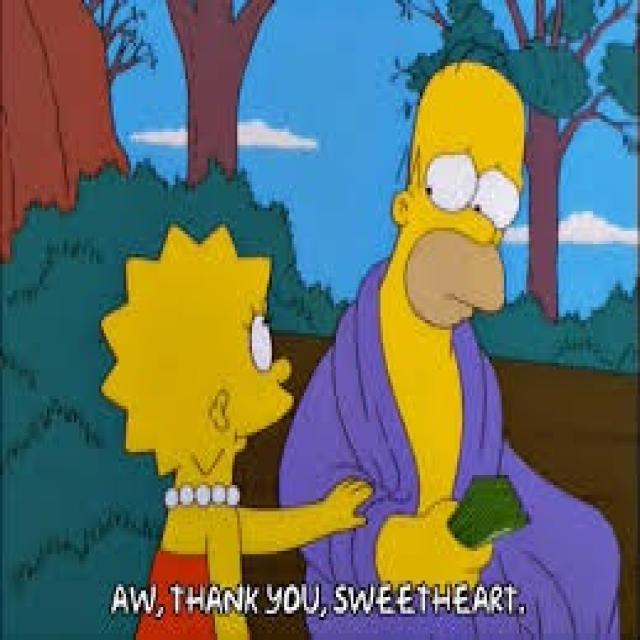Homer Simpson: (383, 43, 531, 353)
Lisa Simpson: (88, 221, 302, 511)
